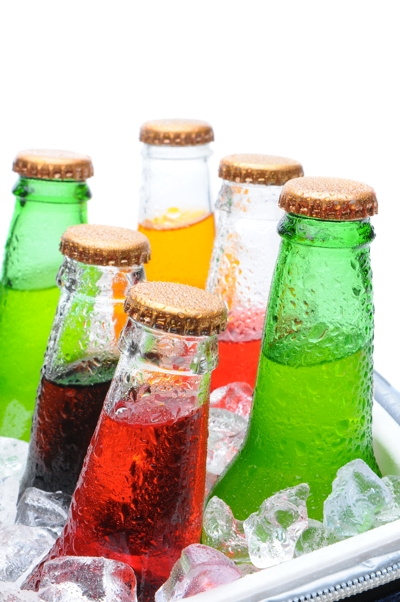Glass bottle: (6, 103, 379, 562), (203, 164, 386, 556), (72, 260, 230, 602), (184, 157, 322, 445), (41, 219, 171, 515)
